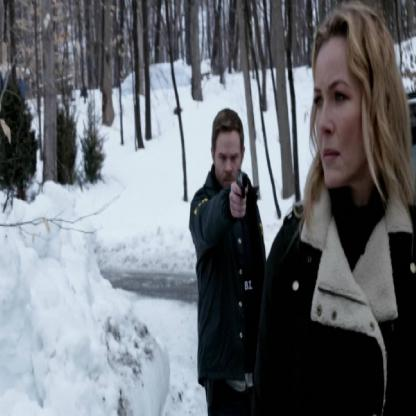Guns: (233, 164, 246, 203)
